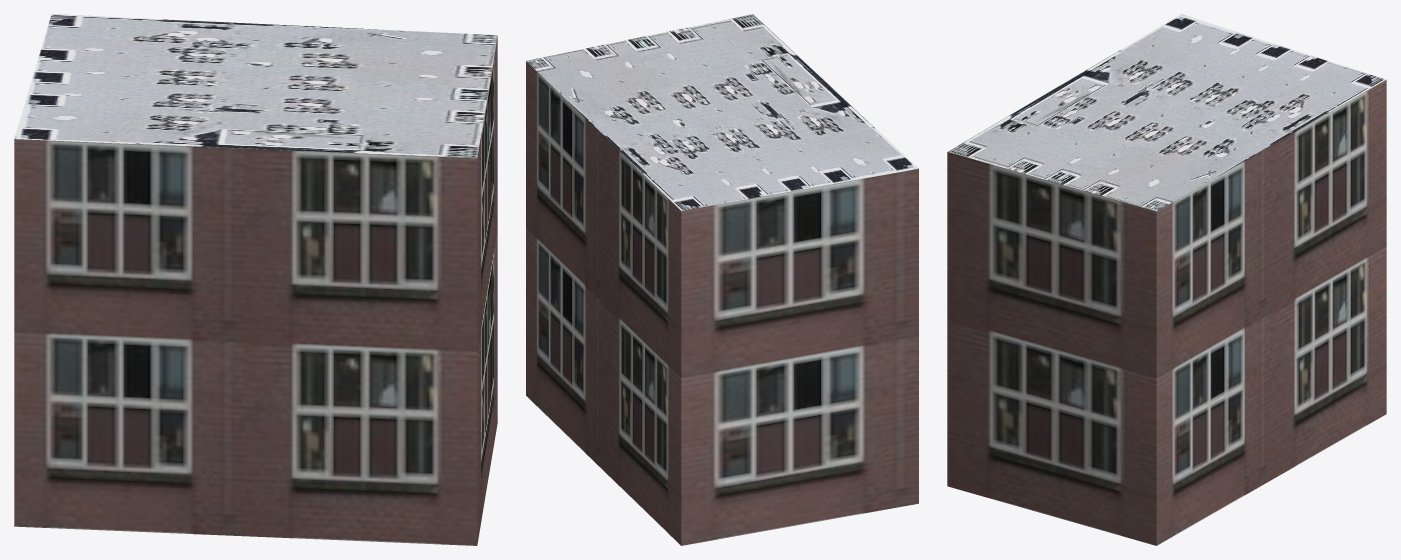
File: ResTex__4450.fbx
3 views of the same model, side by side, from view 1: azimuth 30°, elevation 25°; view 2: azimuth 150°, elevation 25°; view 3: azimuth 270°, elevation 25° (orthographic). The views are drawn at different scales.
Visible parts, largest first — view 1: CityEngineMaterial_12_m, CityEngineMaterial_8_m; view 2: CityEngineMaterial_12_m, CityEngineMaterial_8_m; view 3: CityEngineMaterial_12_m, CityEngineMaterial_8_m.
Part boxes in pixels (x1=…): CityEngineMaterial_12_m: x1=14, y1=36, x2=497, y2=545; CityEngineMaterial_8_m: x1=14, y1=14, x2=497, y2=158; CityEngineMaterial_12_m: x1=526, y1=61, x2=918, y2=545; CityEngineMaterial_8_m: x1=526, y1=14, x2=918, y2=210; CityEngineMaterial_12_m: x1=947, y1=80, x2=1386, y2=545; CityEngineMaterial_8_m: x1=948, y1=14, x2=1385, y2=211.
Bounding box in the file's own units: 7.6 × 6 × 7.14.
2 materials, 2 textured.
